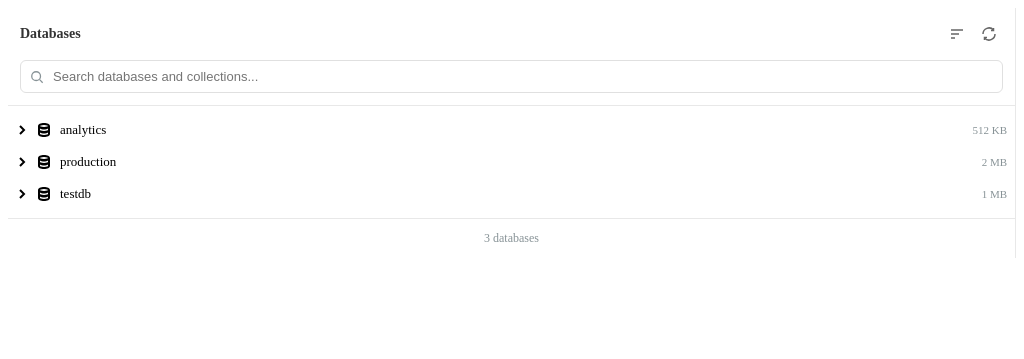
DatabaseBrowser › tree state - displays databases and collections in tree structure › renders collections at level 2 when database is expanded
The image size is (1024, 359).
Expand testdb
Click the text "testdb": point(76, 194) [60,186,91,201]
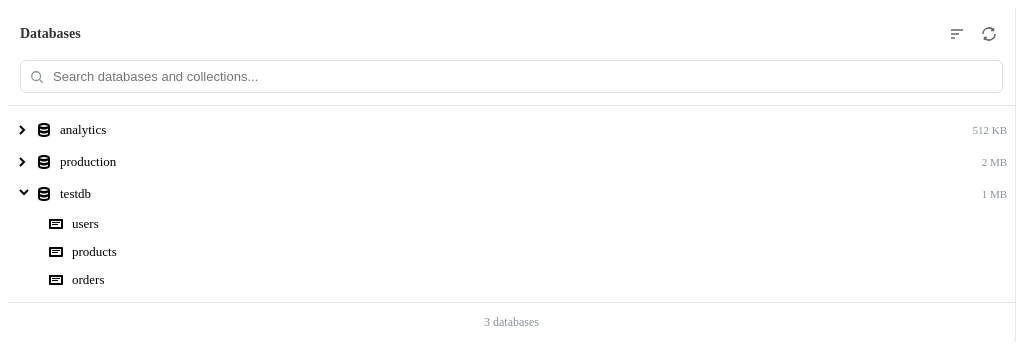
Check: the text "users" is shown, box [72,216,99,231]
